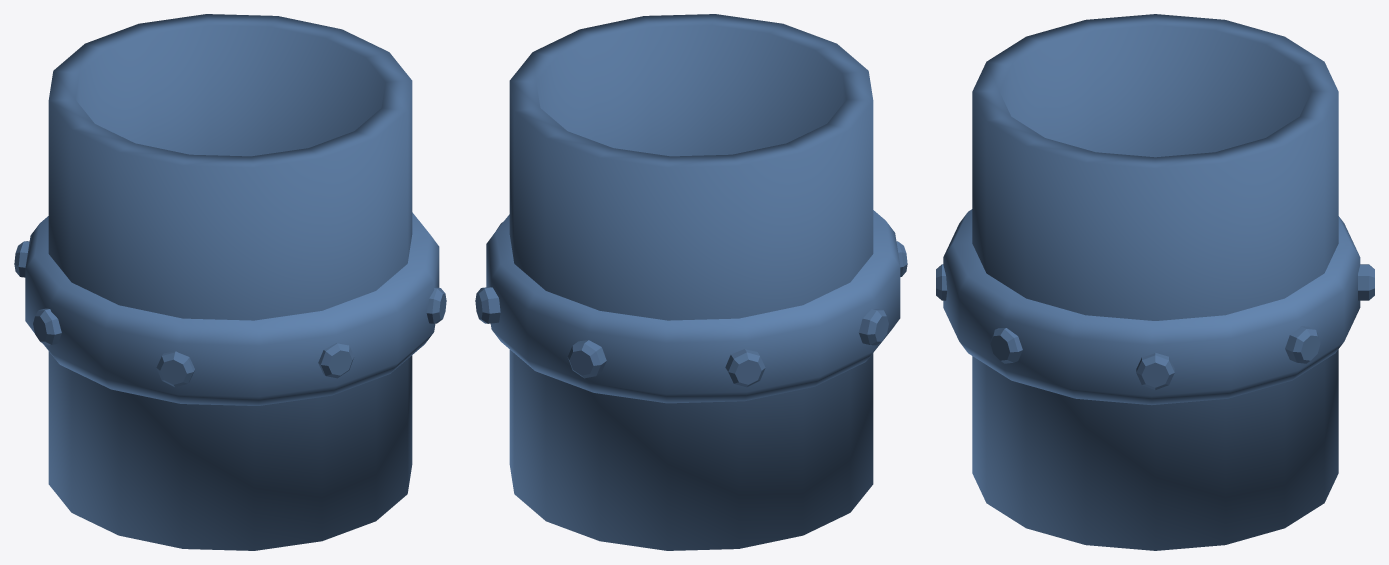
File: Pipe_Straight.glb
3 views of the same model, side by side, from view 1: azimuth 30°, elevation 25°; view 2: azimuth 150°, elevation 25°; view 3: azimuth 270°, elevation 25° (orthographic).
Parts seen in each view (by area): view 1: Pipe_Straight; view 2: Pipe_Straight; view 3: Pipe_Straight.
Part boxes in pixels (box(x1,y1,x2,y2)): Pipe_Straight: box(14, 14, 446, 550); Pipe_Straight: box(475, 14, 907, 550); Pipe_Straight: box(936, 14, 1374, 550).
Bounding box in the file's own units: 2.08 × 2 × 2.08.
